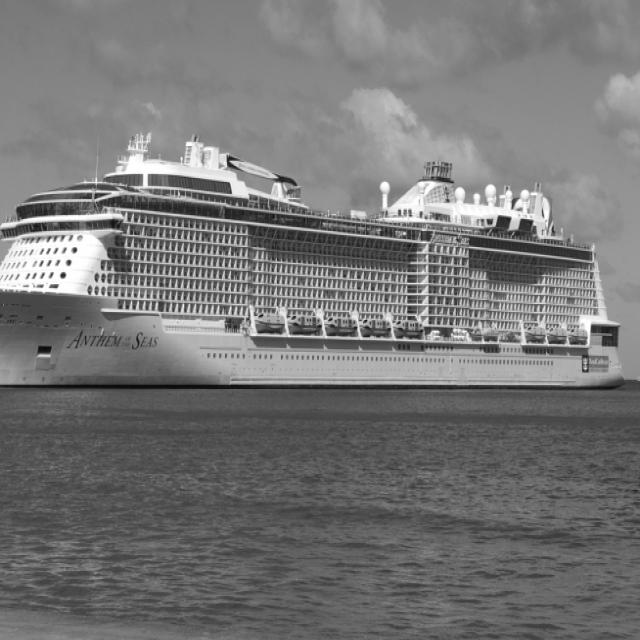cruises: (1, 130, 628, 398)
